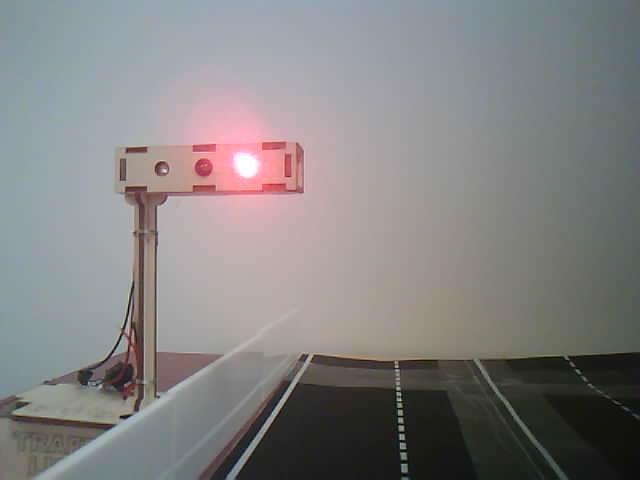red: (109, 135, 313, 204)
